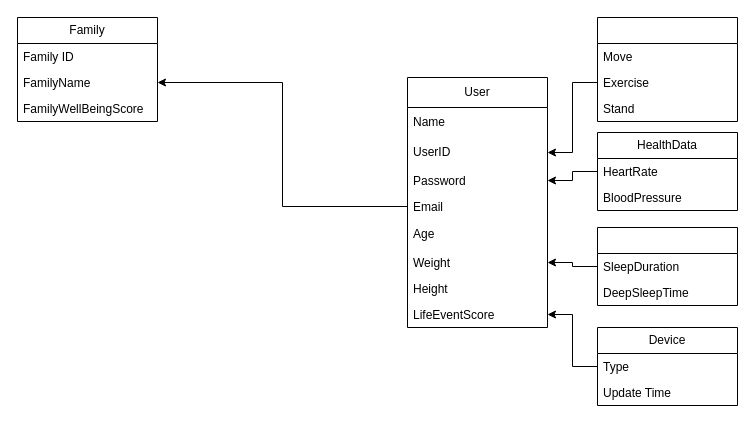
Some shapes in this 755 by 426 pixel diagram are drawn without their labels. The shapes that lost their labels are listed below. From the top down, each one's box as (x1, y1, x2, y2) in pixels, then its label:
(596, 16, 738, 122): ActivityData
(596, 226, 738, 306): SleepData
